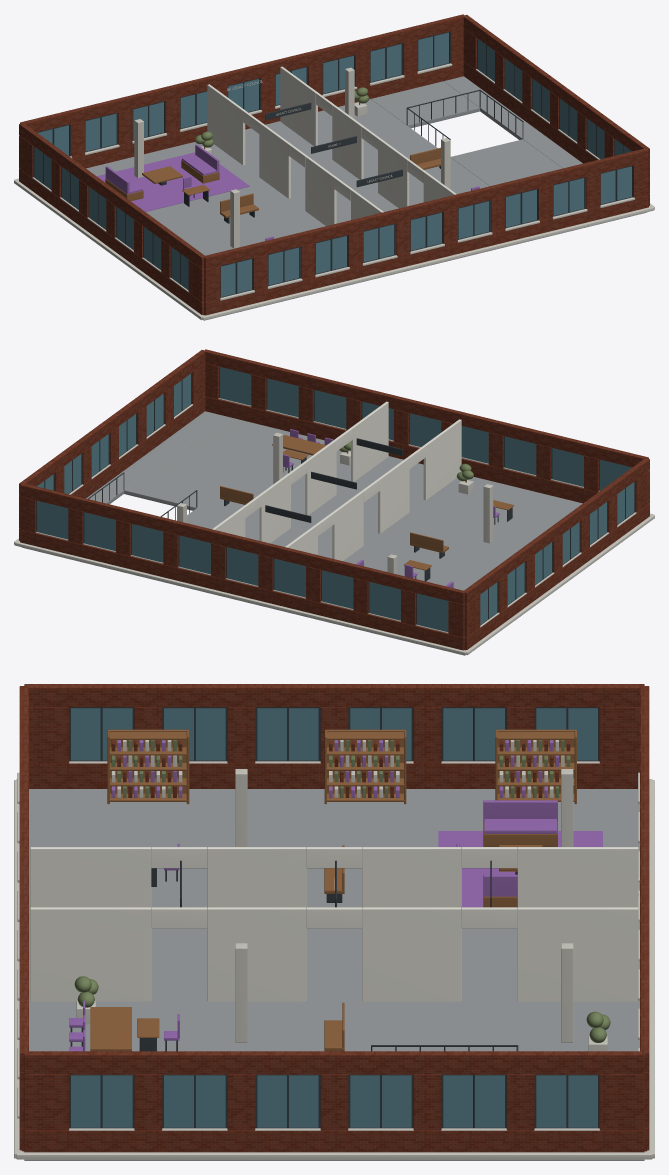
Rendered from SM_LegacyTower_Level07.fbx.
3 renders of one model, top to bottom at view 1: azimuth 30°, elevation 25°; view 2: azimuth 150°, elevation 25°; view 3: azimuth 270°, elevation 25°, orthographic. The views are drawn at different scales.
Parts seen in each view (by area): view 1: SM_LegacyTower_Level07; view 2: SM_LegacyTower_Level07; view 3: SM_LegacyTower_Level07.
Part boxes in pixels (<box>): SM_LegacyTower_Level07: <box>14,14,654,320</box>; SM_LegacyTower_Level07: <box>14,349,654,655</box>; SM_LegacyTower_Level07: <box>14,684,654,1160</box>.
Size of what is drawn, in the model's own units: 2866 by 2066 by 384.
